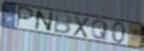0: (111, 22, 127, 45)
B: (53, 12, 73, 35)
N: (34, 9, 55, 34)
P: (15, 6, 35, 29)
Q: (91, 19, 110, 42)
X: (73, 14, 91, 40)
